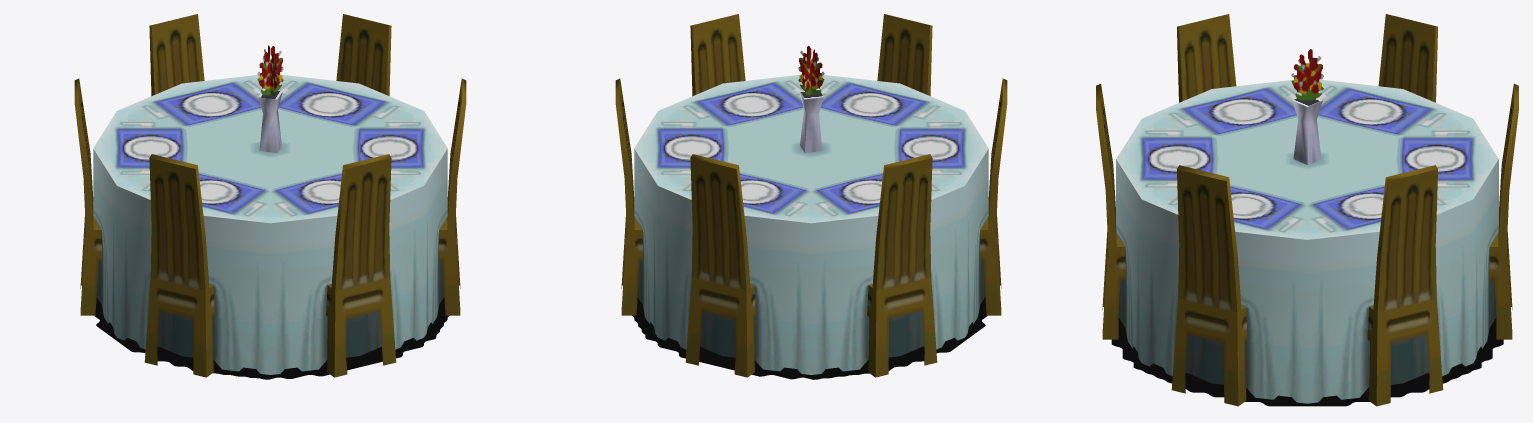
File: testwall1.dae
3 views of the same model, side by side, from view 1: azimuth 30°, elevation 25°; view 2: azimuth 150°, elevation 25°; view 3: azimuth 270°, elevation 25° (orthographic). The views are drawn at different scales.
Visible parts, largest first — view 1: n1b1; view 2: n1b1; view 3: n1b1.
Part boxes in pixels (x1,y1,x2,y2): n1b1: [74, 14, 466, 379]; n1b1: [615, 14, 1007, 379]; n1b1: [1096, 14, 1518, 406].
Bounding box in the file's own units: 446 × 340 × 465.
2 materials, 1 textured.
